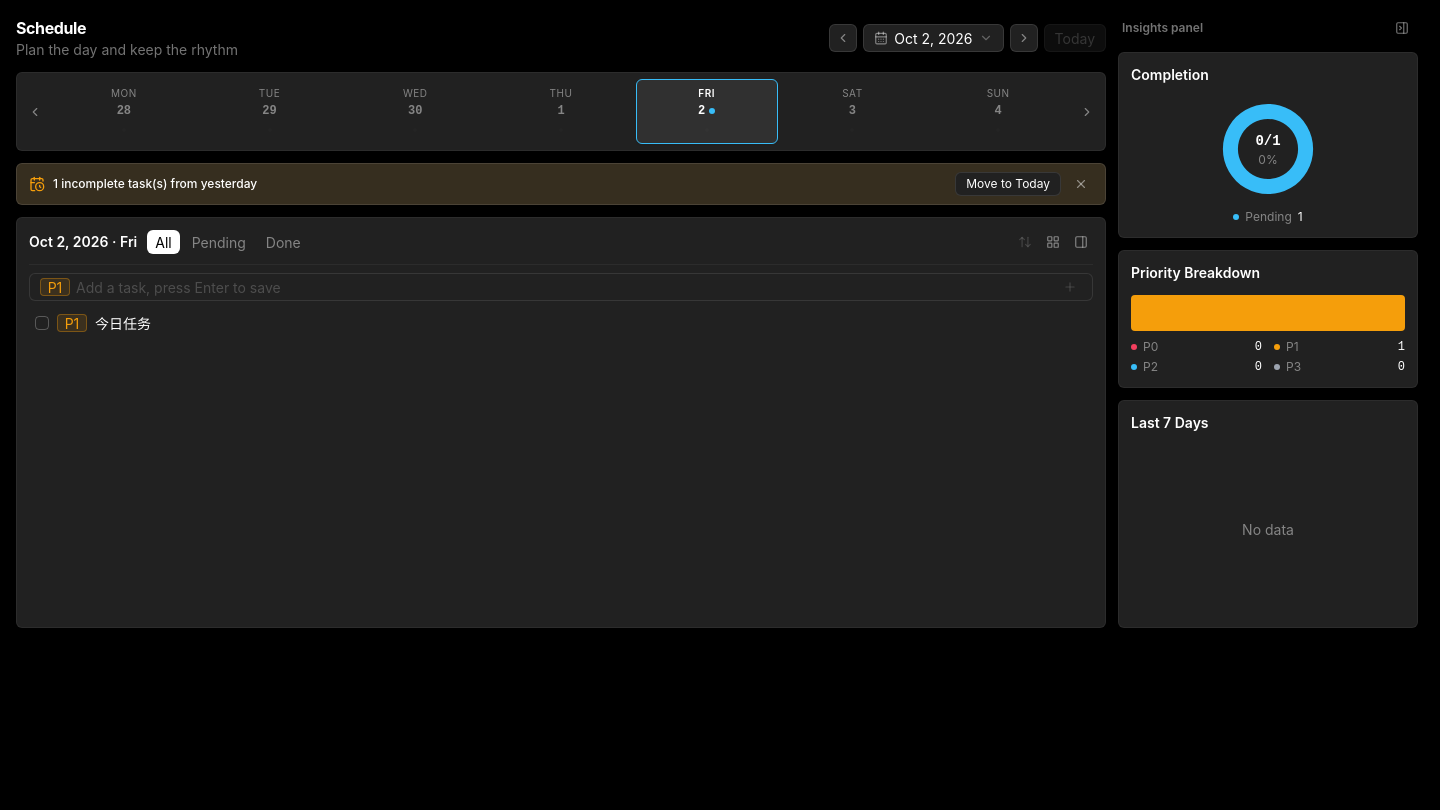
Test case: ScheduleDashboard › 切换日期不触发整页加载遮罩，并保留当前列表直到新数据到达
The width and height of the screenshot is (1440, 810).
Check: the button "今日任务" is shown, box x1=95 y1=312 x2=1027 y2=334
Click the button named "Next day": click(1024, 38) x1=1010 y1=24 x2=1038 y2=52
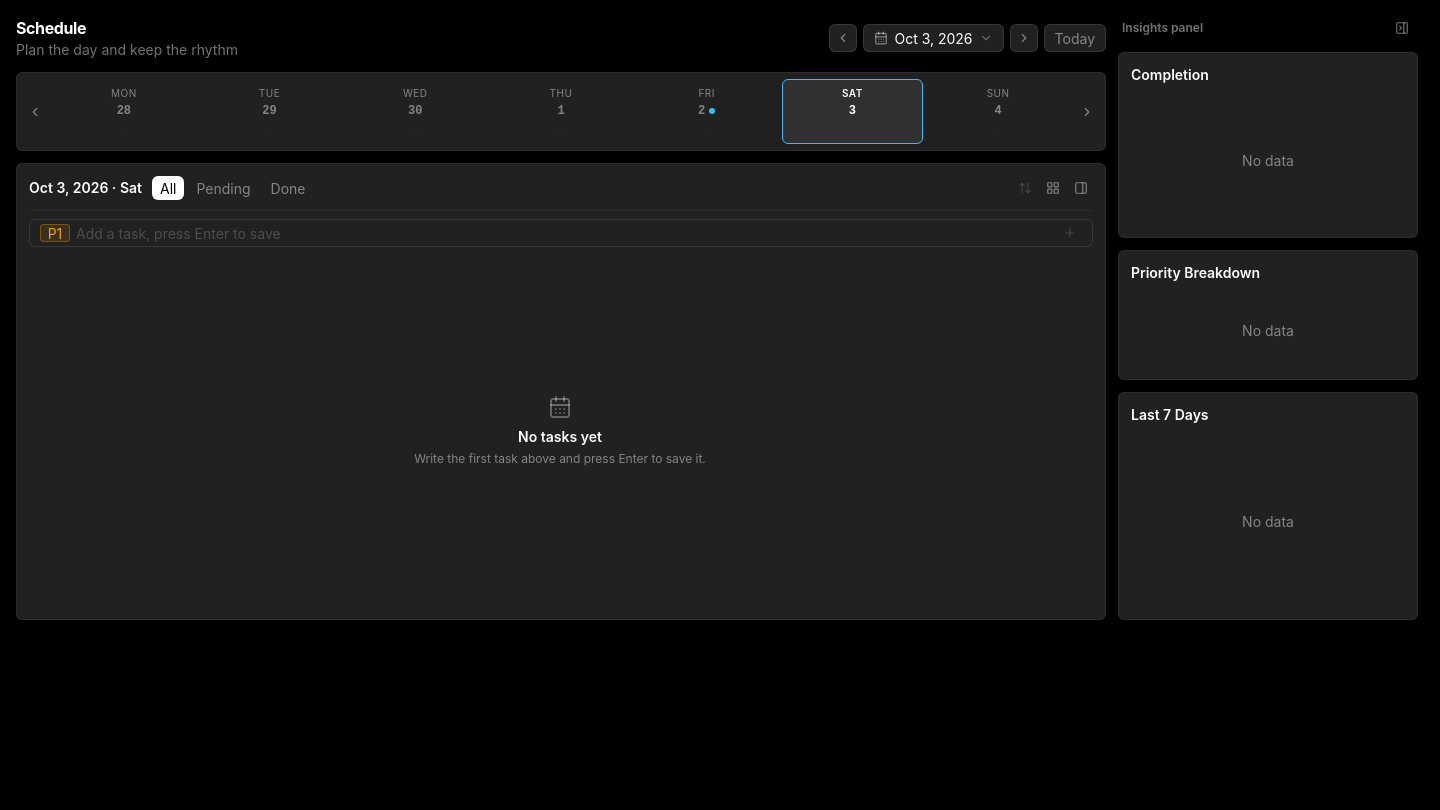
Check: the button "今日任务" is gone
